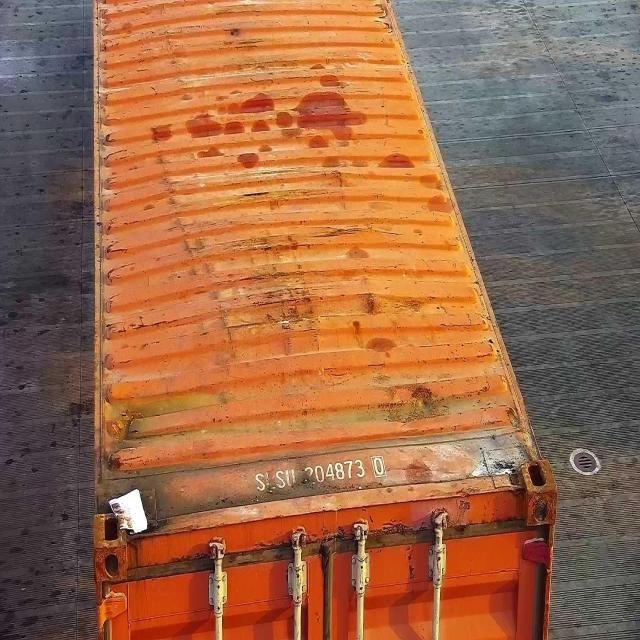dent: (396, 369, 473, 429), (106, 400, 157, 453)
